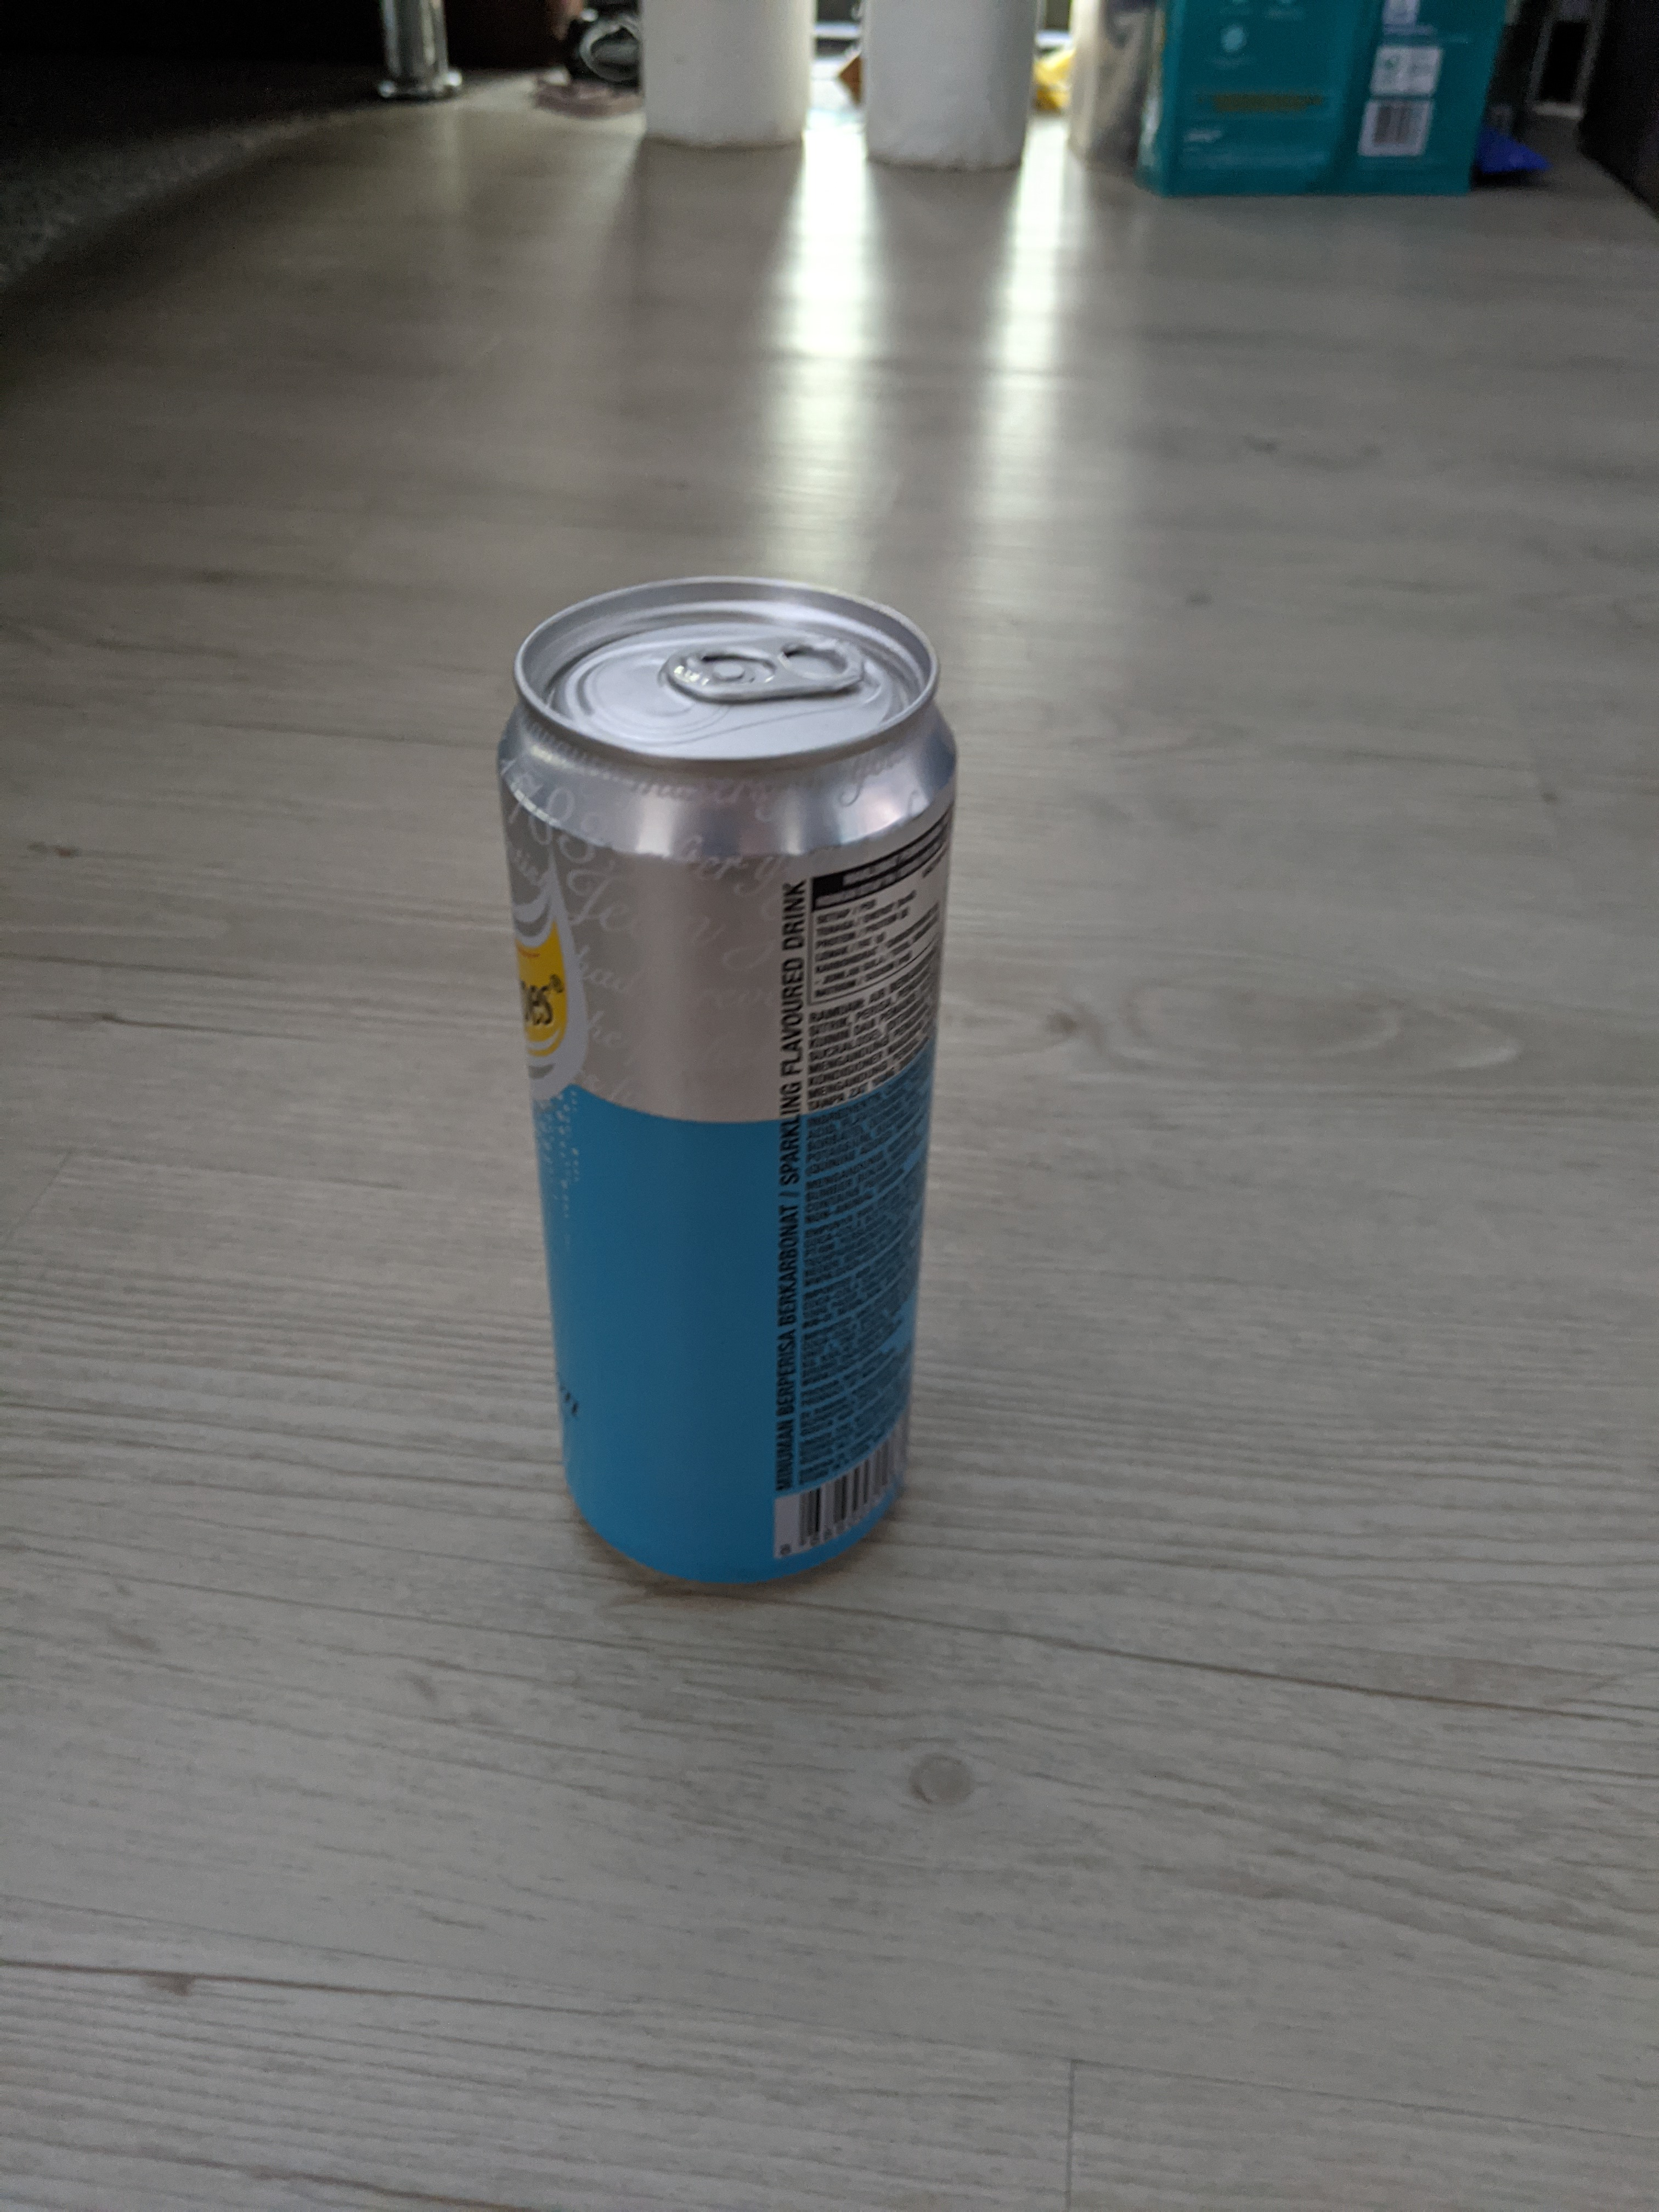schweppes drink can bitter lemon: (471, 550, 985, 1618)
